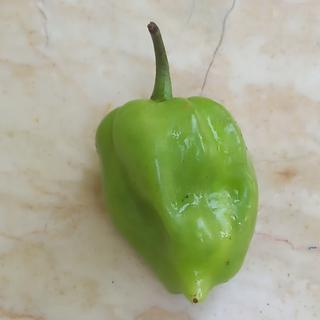Grade-A: (84, 86, 261, 307)
